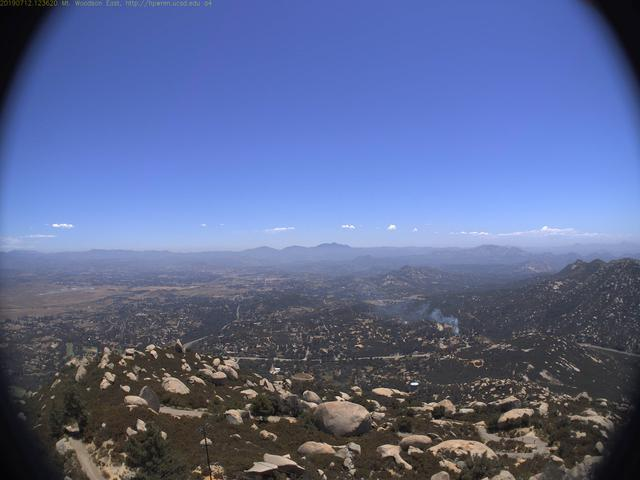smoke: (376, 297, 463, 338)
